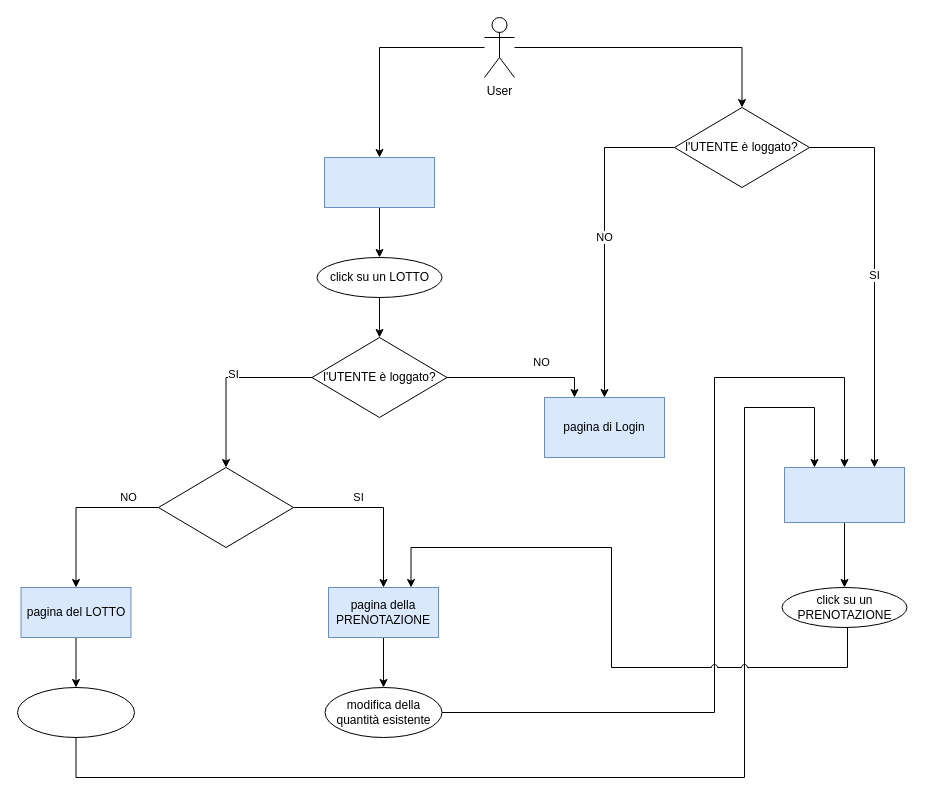
This 925x803 diagram has some shape labels left out. The centre of each missing label's shape, as x and y in pixels:
elenco LOTTI (homepage): point (379, 182)
elenco PRENOTAZIONI: point (844, 494)
esiste già una PRENOTAZIONE sul LOTTO?: point (226, 507)
invio della quantità da prenotare: point (75, 712)
